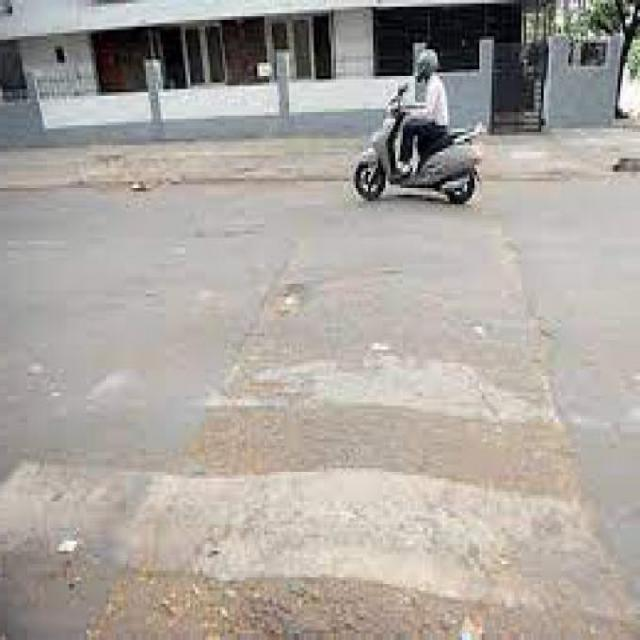speedbreaker: (236, 207, 554, 640)
